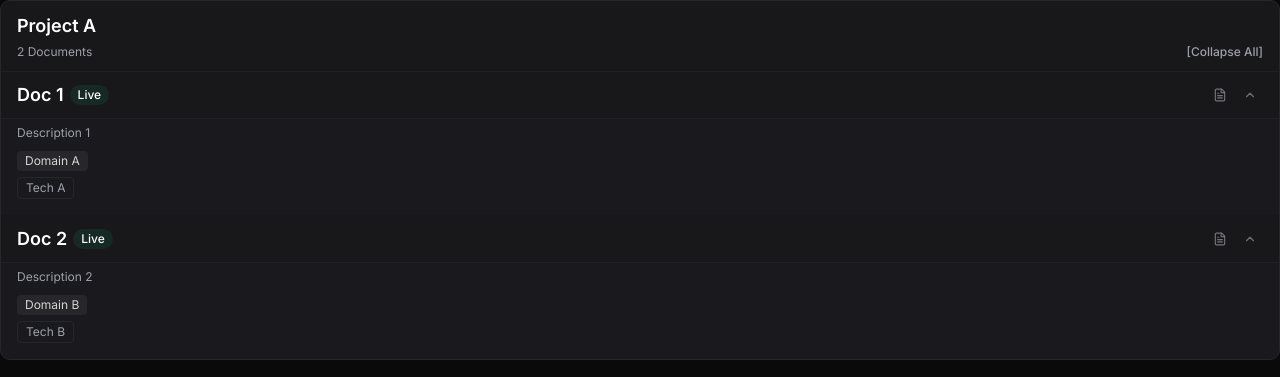
BlueprintGroup › Collapse All button works when isFocused is true
The image size is (1280, 377).
Expected: the text "Description 1" is shown, [17, 125, 90, 140]
Expected: the text "Description 2" is shown, [17, 269, 92, 284]
Click the button with test id "expand-collapse-all-button". click: (1225, 51)
box: [1186, 44, 1263, 58]
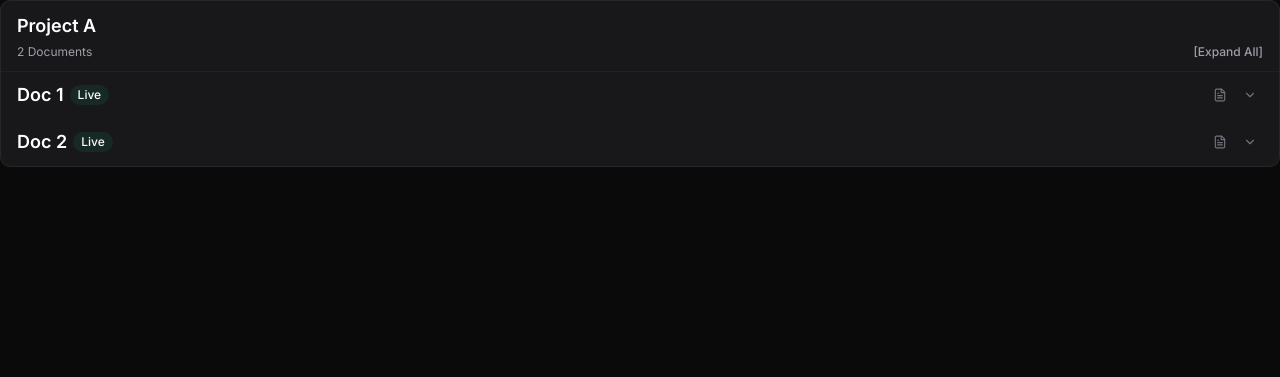
Result: the text "Description 1" is gone
Result: the text "Description 2" is gone
Result: the button with test id "expand-collapse-all-button" shows "Expand All" at [1193, 44, 1263, 58]
